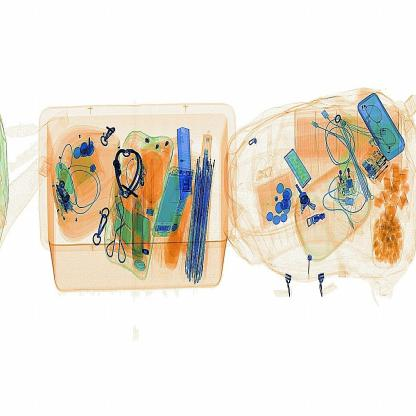pliers: (168, 120, 197, 204)
